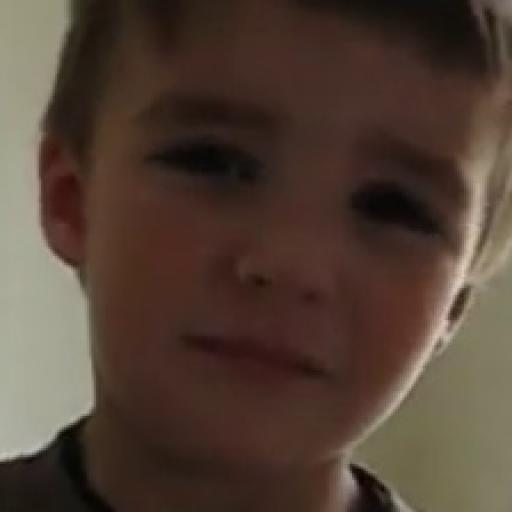Autism: (80, 18, 512, 512)
